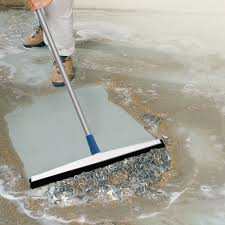Wet-floor: (12, 89, 183, 219)
